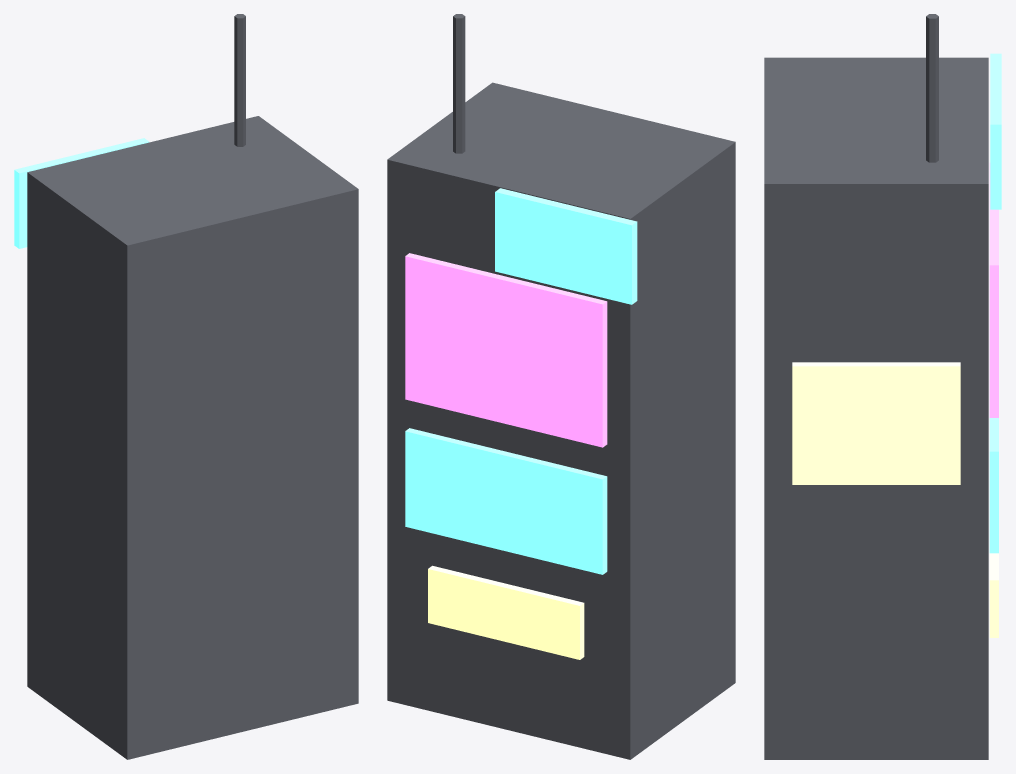
Rendered from shibuya.glb.
3 renders of one model, left to right at view 1: azimuth 30°, elevation 25°; view 2: azimuth 150°, elevation 25°; view 3: azimuth 270°, elevation 25°, orthographic. The views are drawn at different scales.
Parts seen in each view (by area): view 1: tk_main, tk_bill, tk_ant; view 2: tk_main, tk_s1, tk_s2, tk_bill, tk_s4, tk_ant; view 3: tk_main, tk_s3, tk_s1, tk_ant, tk_bill, tk_s2, tk_s4.
Boxes of the visible parts, left/top/right/bottom form: tk_main: left=27, top=116, right=358, bottom=759; tk_bill: left=14, top=138, right=149, bottom=248; tk_ant: left=234, top=14, right=245, bottom=146; tk_main: left=387, top=82, right=735, bottom=759; tk_s1: left=405, top=253, right=607, bottom=447; tk_s2: left=405, top=428, right=607, bottom=574; tk_bill: left=495, top=188, right=637, bottom=304; tk_s4: left=428, top=565, right=584, bottom=659; tk_ant: left=453, top=14, right=465, bottom=153; tk_main: left=764, top=57, right=988, bottom=759; tk_s3: left=792, top=362, right=960, bottom=484; tk_s1: left=989, top=163, right=998, bottom=417; tk_ant: left=926, top=14, right=938, bottom=162; tk_bill: left=990, top=53, right=1001, bottom=209; tk_s2: left=989, top=418, right=998, bottom=553; tk_s4: left=989, top=553, right=998, bottom=637.
Size of the model in its own units: 17.05 by 42.5 by 12.7.
